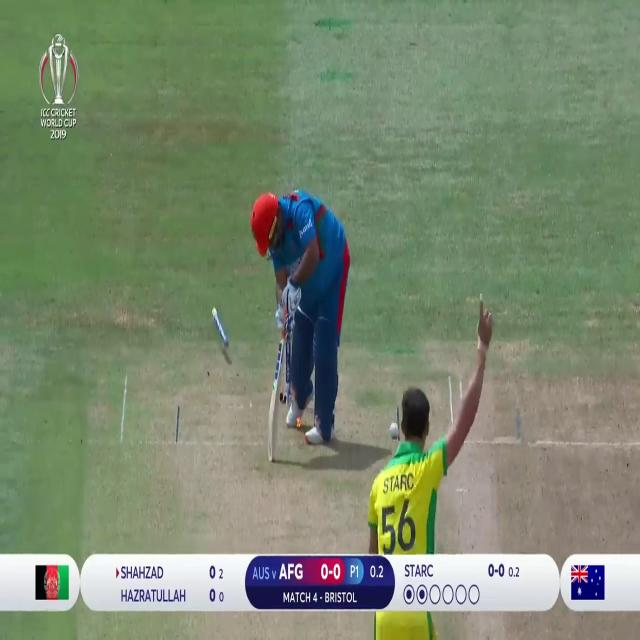ball: (387, 421, 399, 439)
